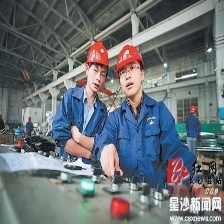helmet: (116, 43, 143, 67), (85, 43, 110, 68)
no-vest: (113, 95, 167, 177), (58, 88, 110, 156)
person: (112, 41, 170, 194), (63, 41, 112, 167)
